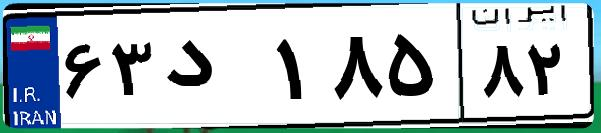1: (270, 28, 330, 110)
2: (525, 38, 570, 115)
3: (110, 28, 158, 98)
5: (385, 28, 445, 110)
6: (57, 26, 110, 100)
8: (330, 28, 385, 110), (475, 38, 525, 113)
د: (158, 20, 270, 120)
